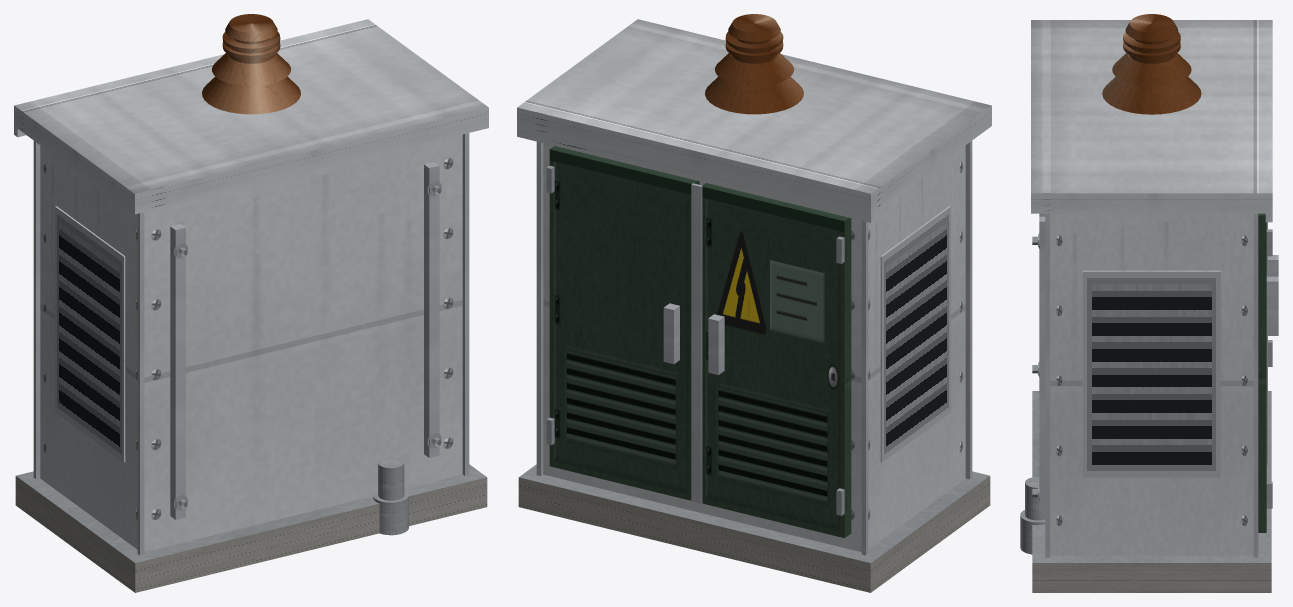
File: power_box.obj
The picture shows the model from 3 angles, left to right: view 1: azimuth 30°, elevation 25°; view 2: azimuth 150°, elevation 25°; view 3: azimuth 270°, elevation 25°; orthographic projection.
Visible parts, largest first — view 1: body, hood, plinth, vent, insulator, conduit; view 2: door, hood, body, plinth, vent, insulator; view 3: body, hood, vent, plinth, insulator, door, conduit.
Part boxes in pixels (box(x1,y1,x2,y2)): body: box(33, 133, 469, 555); hood: box(14, 19, 488, 214); plinth: box(15, 464, 487, 592); vent: box(55, 206, 125, 462); insulator: box(202, 14, 300, 114); conduit: box(373, 457, 408, 535); door: box(546, 146, 851, 537); hood: box(517, 19, 991, 222); body: box(536, 141, 972, 555); plinth: box(518, 464, 990, 592); vent: box(880, 206, 950, 462); insulator: box(705, 14, 803, 114); body: box(1032, 213, 1267, 557); hood: box(1031, 20, 1272, 222); vent: box(1083, 270, 1220, 477); plinth: box(1032, 391, 1271, 592); insulator: box(1102, 14, 1201, 114); door: box(1258, 213, 1278, 532); conduit: box(1020, 476, 1045, 554).
Size of the model in its own units: 0.684 by 0.8915 by 0.432.
